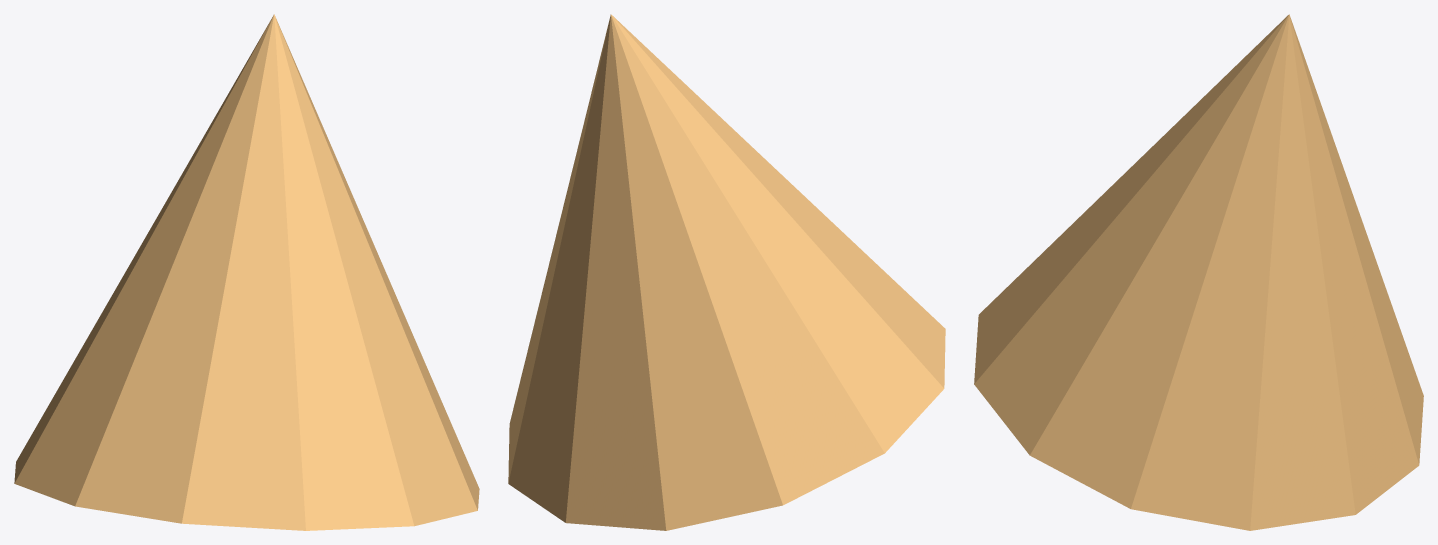
Rendered from astronaut_spawn_group1453338879_lev4.glb.
3 views of the same model, side by side, from view 1: azimuth 30°, elevation 25°; view 2: azimuth 150°, elevation 25°; view 3: azimuth 270°, elevation 25° (orthographic). The views are drawn at different scales.
Visible parts, largest first — view 1: astronaut_spawn_group1453338879_lev4; view 2: astronaut_spawn_group1453338879_lev4; view 3: astronaut_spawn_group1453338879_lev4.
Boxes of the visible parts, <box> form: astronaut_spawn_group1453338879_lev4: <box>14,14,479,530</box>; astronaut_spawn_group1453338879_lev4: <box>508,14,945,530</box>; astronaut_spawn_group1453338879_lev4: <box>974,14,1423,530</box>.
Size of the model in its own units: 0.1769 by 0.2037 by 0.1779.
